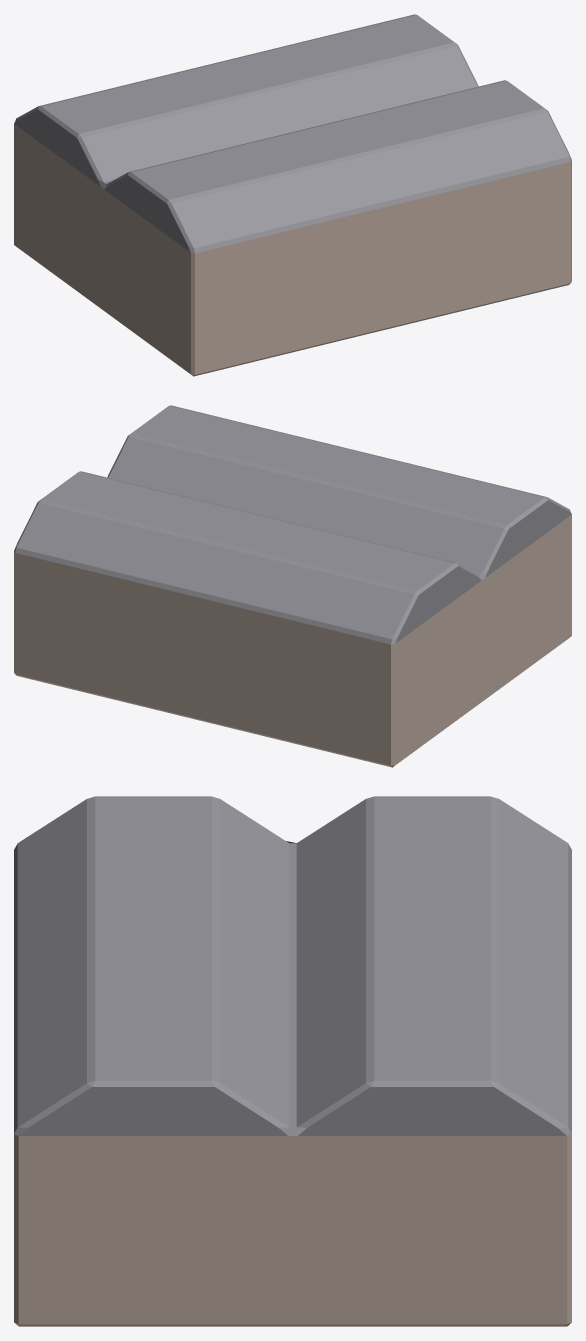
The model's file is town_shed.glb.
3 views of the same model, one above another, from view 1: azimuth 30°, elevation 25°; view 2: azimuth 150°, elevation 25°; view 3: azimuth 270°, elevation 25° (orthographic). The views are drawn at different scales.
Visible parts, largest first — view 1: works_shed; view 2: works_shed; view 3: works_shed.
Part boxes in pixels (x1,y1,x2,y2): works_shed: (14, 14, 571, 376); works_shed: (14, 405, 571, 767); works_shed: (14, 796, 571, 1326).
Size of the model in its own units: 0.44 by 0.175 by 0.36.
